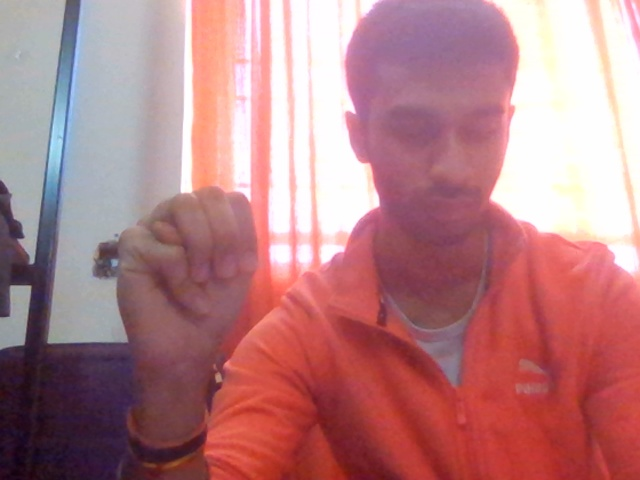M: (77, 154, 312, 413)
